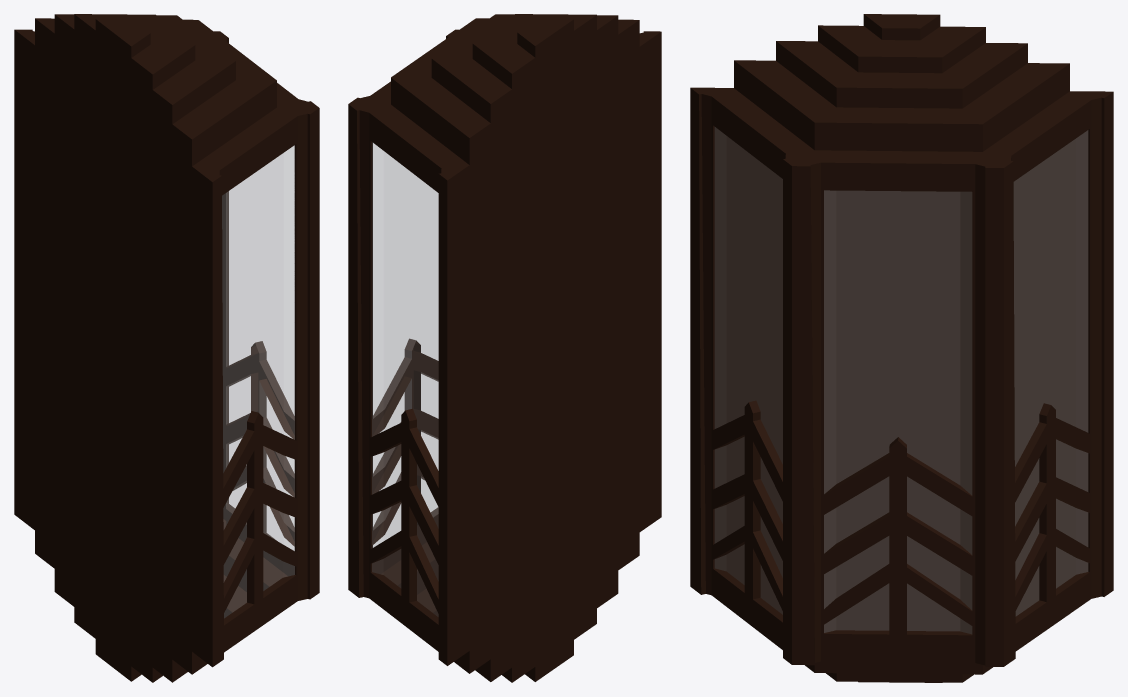
The model's file is lantern.glb.
3 renders of one model, left to right at view 1: azimuth 30°, elevation 25°; view 2: azimuth 150°, elevation 25°; view 3: azimuth 270°, elevation 25°, orthographic. The views are drawn at different scales.
Parts seen in each view (by area): view 1: wood, glass; view 2: wood, glass; view 3: wood, glass.
Part boxes in pixels (x1,y1,x2,y2): wood: (14, 14, 319, 682); glass: (222, 145, 294, 617); wood: (348, 14, 661, 682); glass: (372, 142, 438, 616); wood: (690, 14, 1113, 682); glass: (715, 127, 1087, 633).
Bounding box in the file's own units: 0.3407 × 1.29 × 0.7576.
